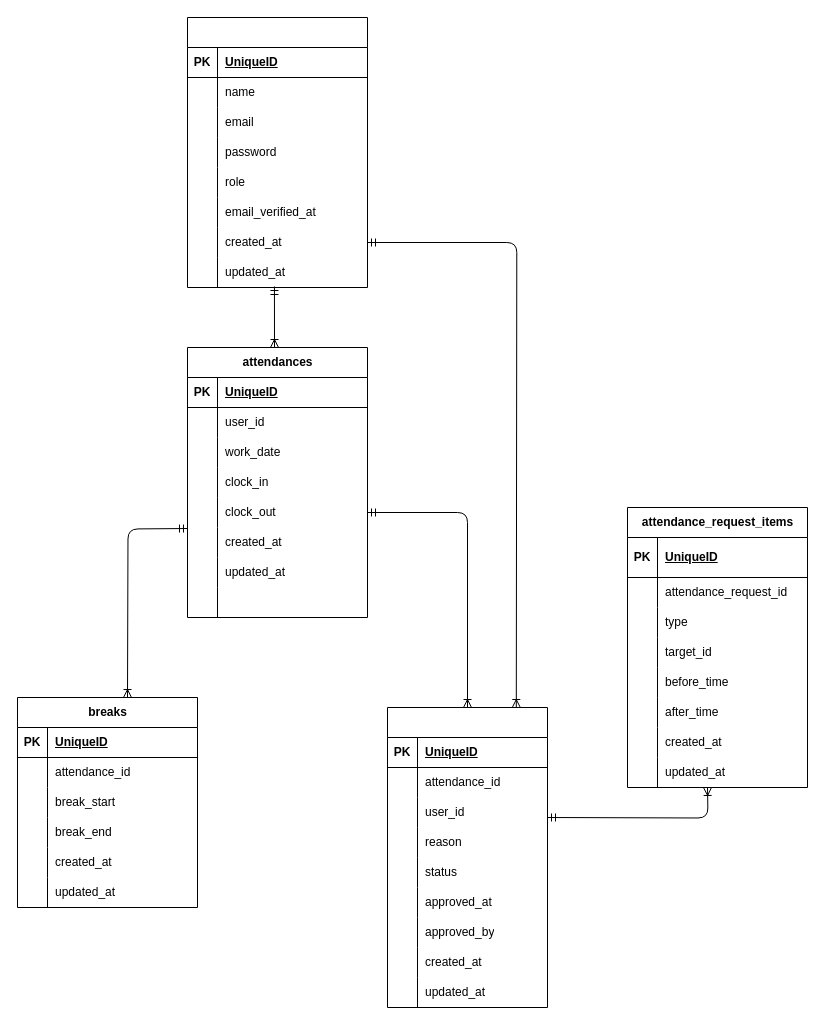
Image size: 825x1025. Some labels were removed from this diagram. The shapes that lost their labels are listed below. From the top down, each one's box as (x1, y1, x2, y2) in pixels, then its label:
(186, 16, 368, 288): User
(386, 706, 548, 1008): attendance_requests
